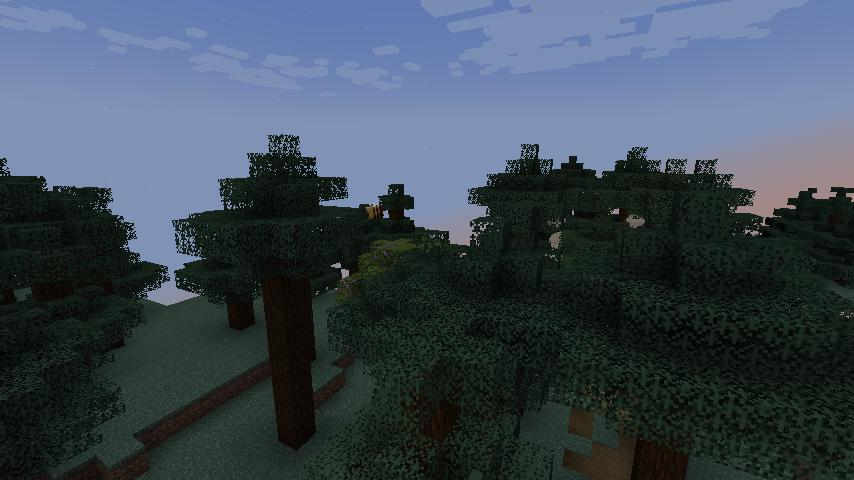bee: (365, 201, 385, 220)
